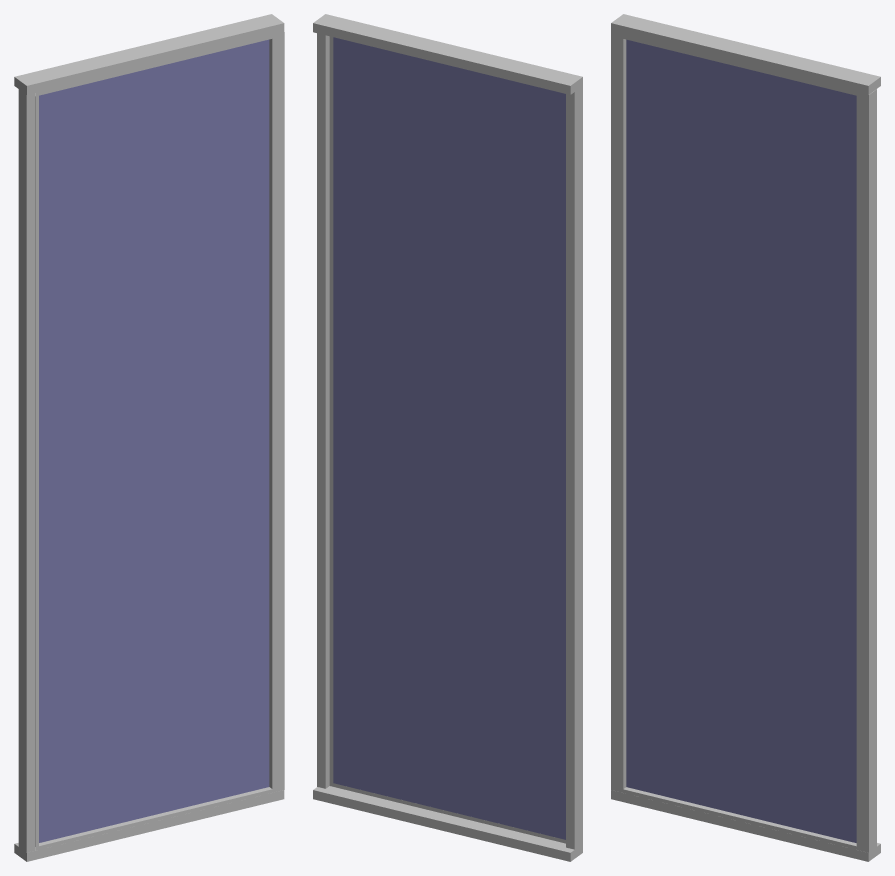
Rendered from Door_v01.fbx.
3 views of the same model, side by side, from view 1: azimuth 30°, elevation 25°; view 2: azimuth 150°, elevation 25°; view 3: azimuth 330°, elevation 25° (orthographic).
Parts seen in each view (by area): view 1: DoorWindows, Door; view 2: DoorWindows, Door; view 3: DoorWindows, Door.
Part boxes in pixels (x1,y1,x2,y2): DoorWindows: (39, 39, 269, 842); Door: (14, 14, 284, 861); DoorWindows: (333, 37, 565, 839); Door: (313, 14, 582, 861); DoorWindows: (626, 39, 856, 842); Door: (611, 14, 880, 861).
Size of the model in its own units: 148 by 425 by 12.38.
